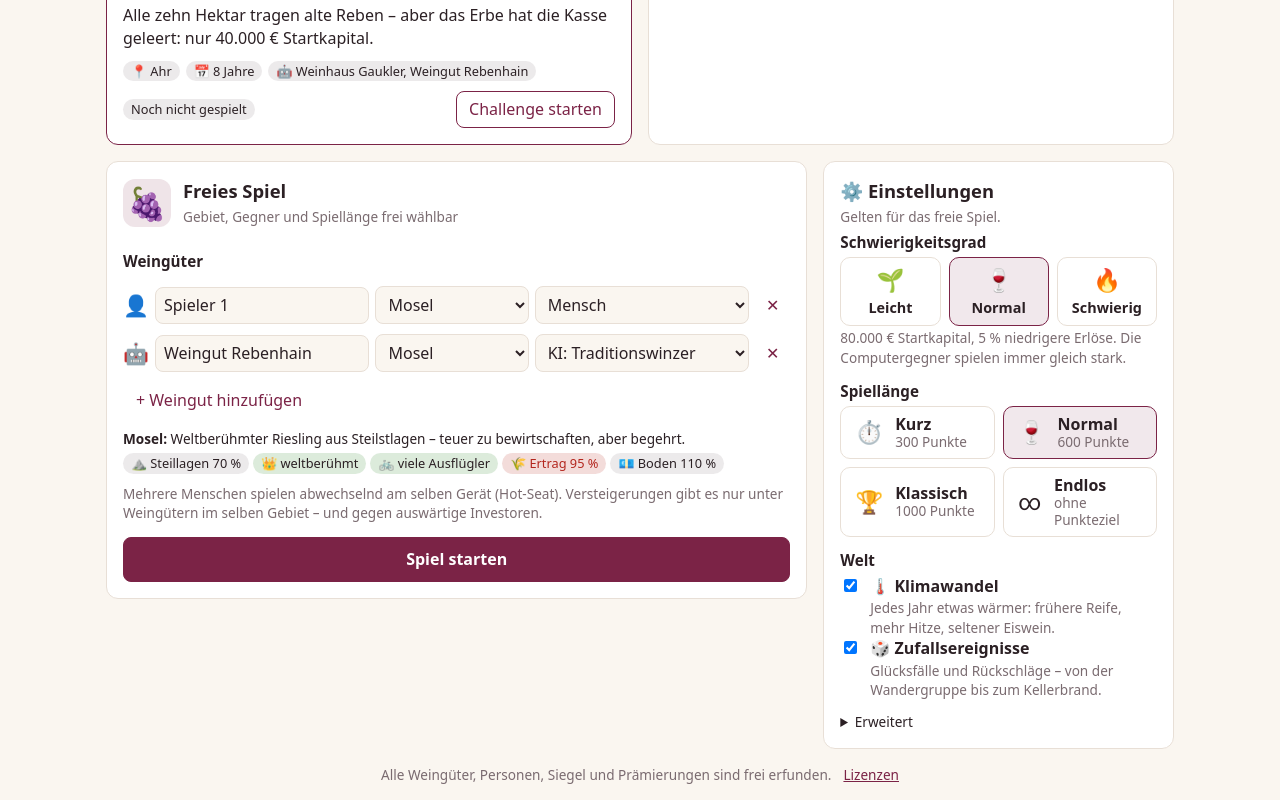
Test: Bedienung › gegen die KI zieht der Gegner automatisch mit
(page scrolled)
What coordinates should you click on to do the following:
click the button "Spiel starten"
I would click on:
 (457, 560)
Its box is [123,537,790,582].
(page scrolled)
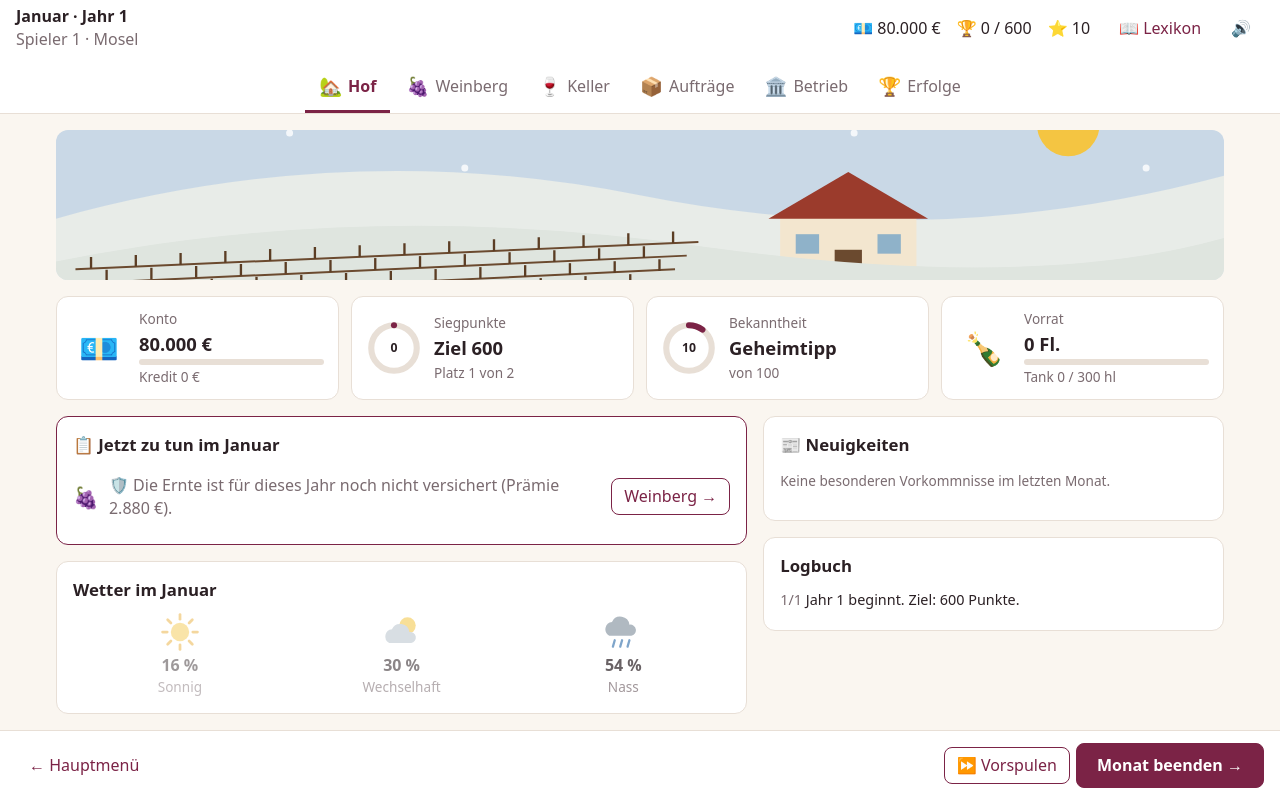
What coordinates should you click on to do the following:
click the button "Monat beenden →"
I would click on:
 (1170, 765)
Its box is [1076,743,1264,788].
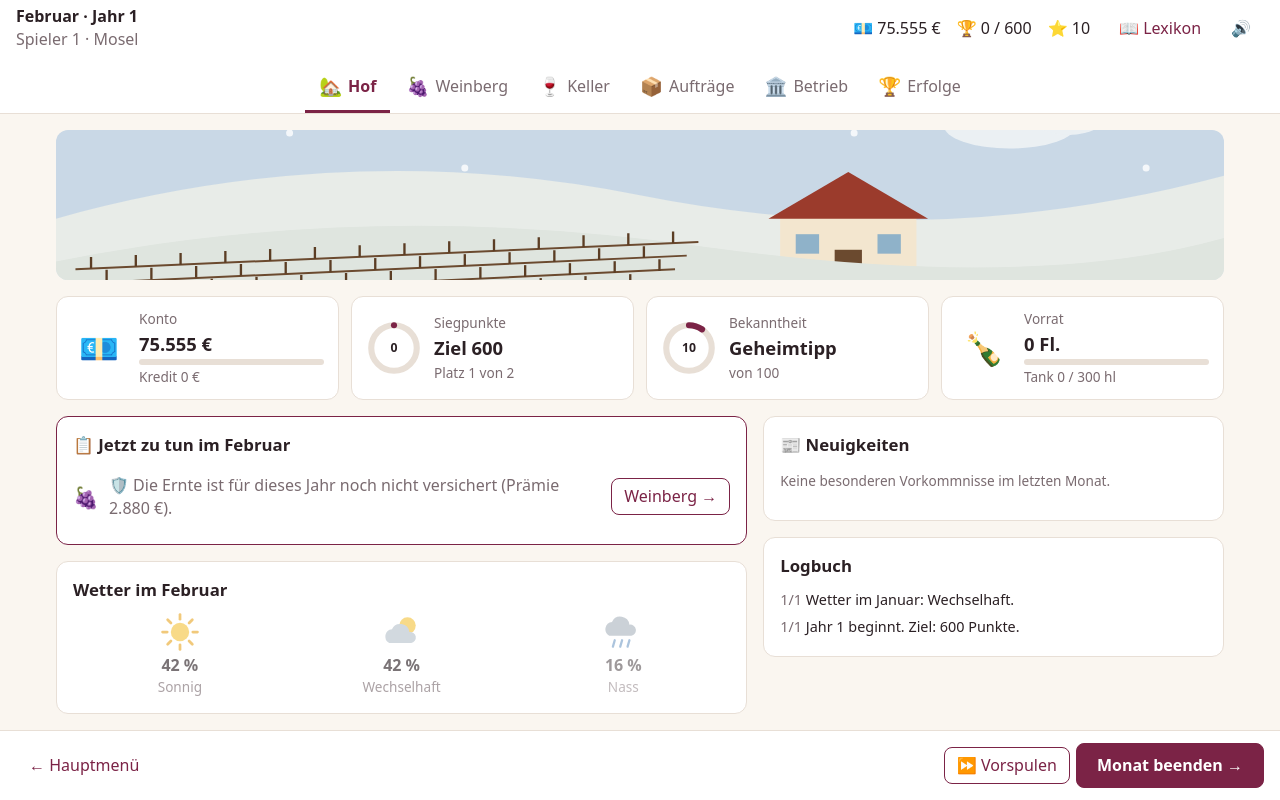
expect the text "Erfolge" is shown: met, box [907,75,961,98]
expect the text "Februar · Jahr 1" is shown: met, box [16,5,138,27]
